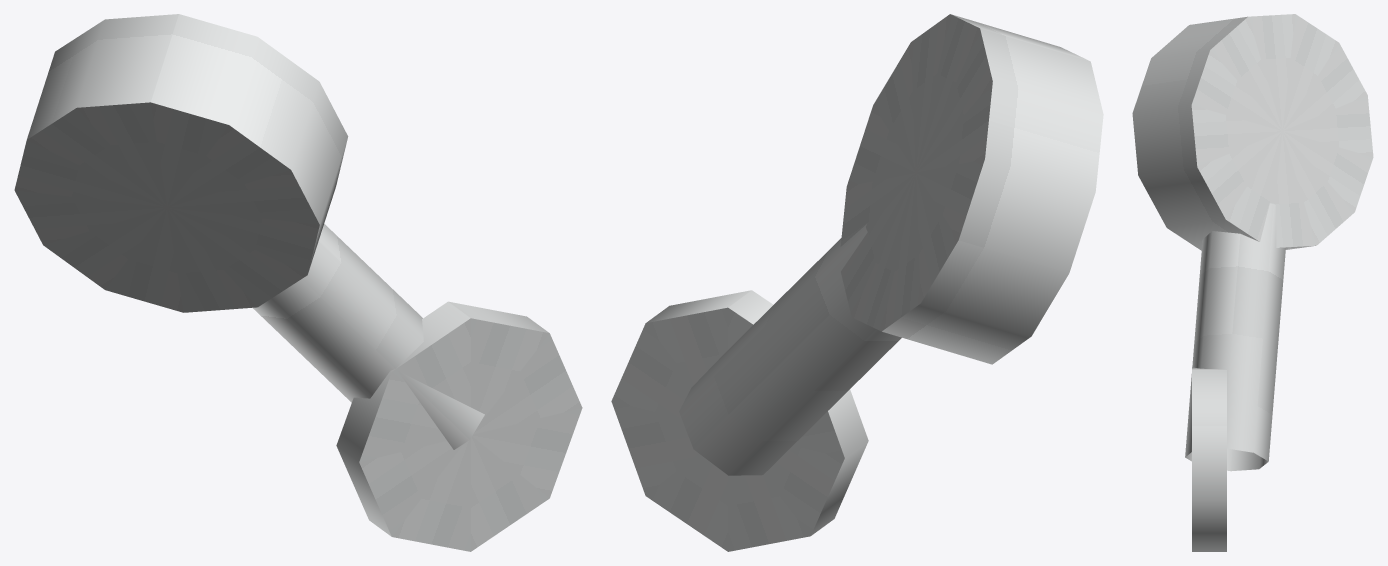
Rendered from nycsignalarm_stub_134.obj.
3 renders of one model, left to right at view 1: azimuth 30°, elevation 25°; view 2: azimuth 150°, elevation 25°; view 3: azimuth 270°, elevation 25°, orthographic. The views are drawn at different scales.
Visible parts, largest first — view 1: nycsignalarm_stub_134; view 2: nycsignalarm_stub_134; view 3: nycsignalarm_stub_134.
Part boxes in pixels (x1=…): nycsignalarm_stub_134: x1=14, y1=14, x2=582, y2=551; nycsignalarm_stub_134: x1=611, y1=14, x2=1103, y2=551; nycsignalarm_stub_134: x1=1132, y1=14, x2=1373, y2=551.
Size of the model in its own units: 0.7806 by 0.8584 by 0.429.
